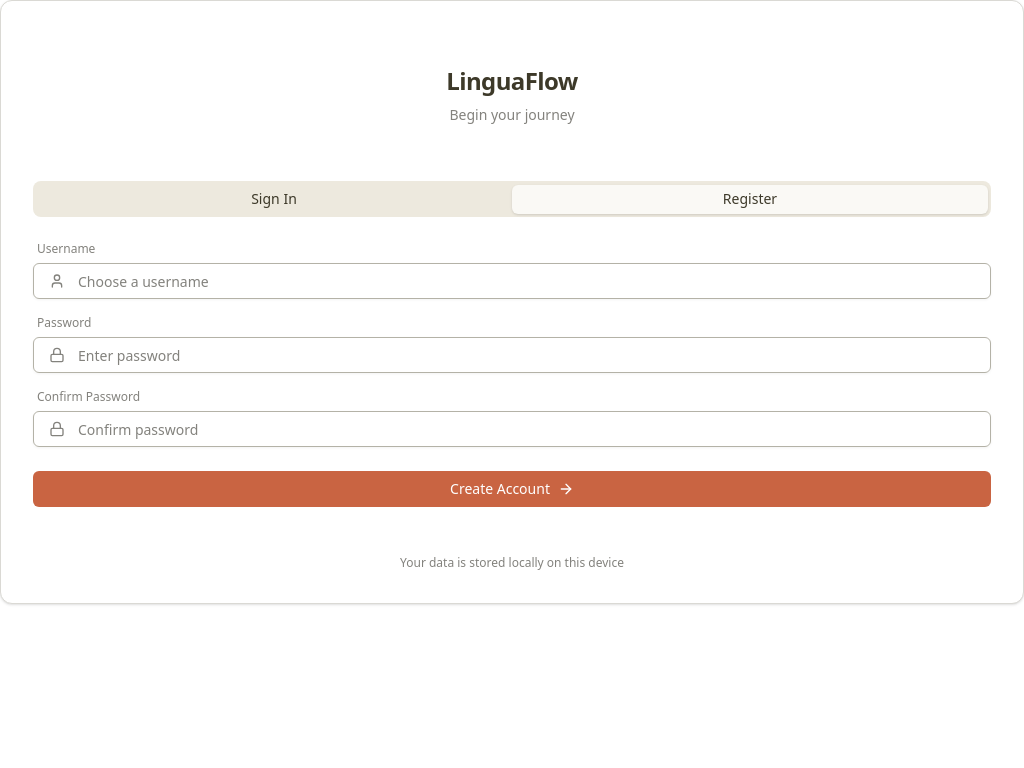
Scenario: AuthPage › switches between login and register tabs
Expected: the button "Create Account" is shown, x1=33 y1=471 x2=991 y2=507
Click the tab "Sign In". click: (274,199)
box: x1=36 y1=184 x2=512 y2=214
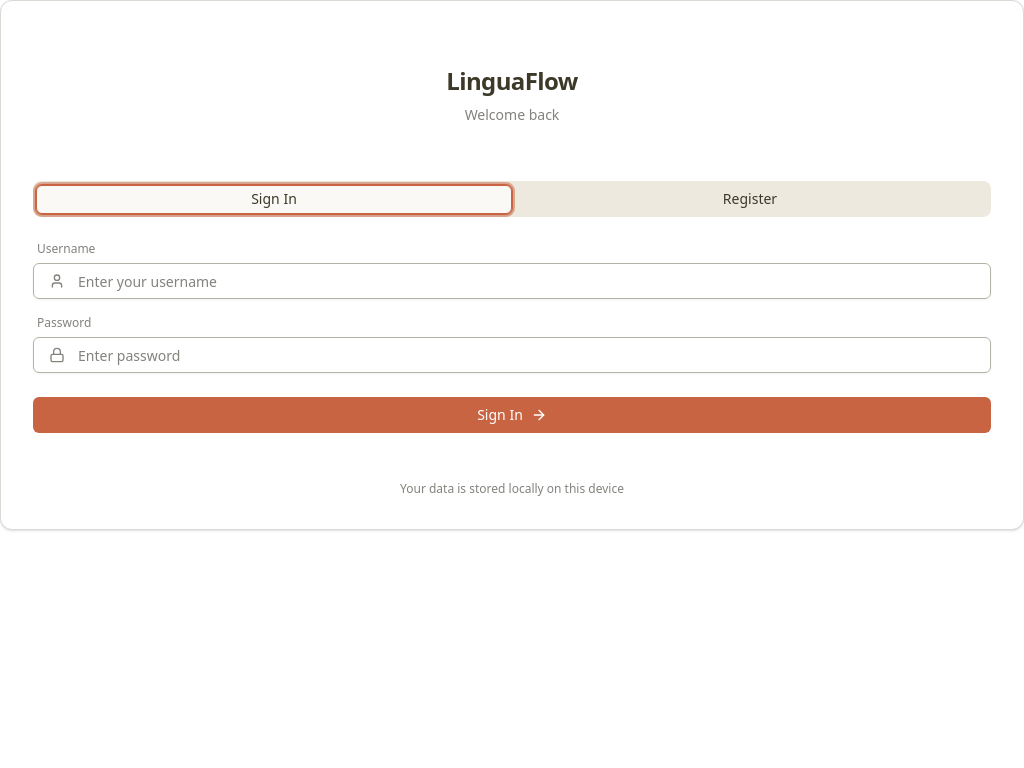
Now the button "Sign In" is shown, box x1=33 y1=397 x2=991 y2=433
Click the tab "Register". click: (750,199)
box: x1=512 y1=184 x2=988 y2=214
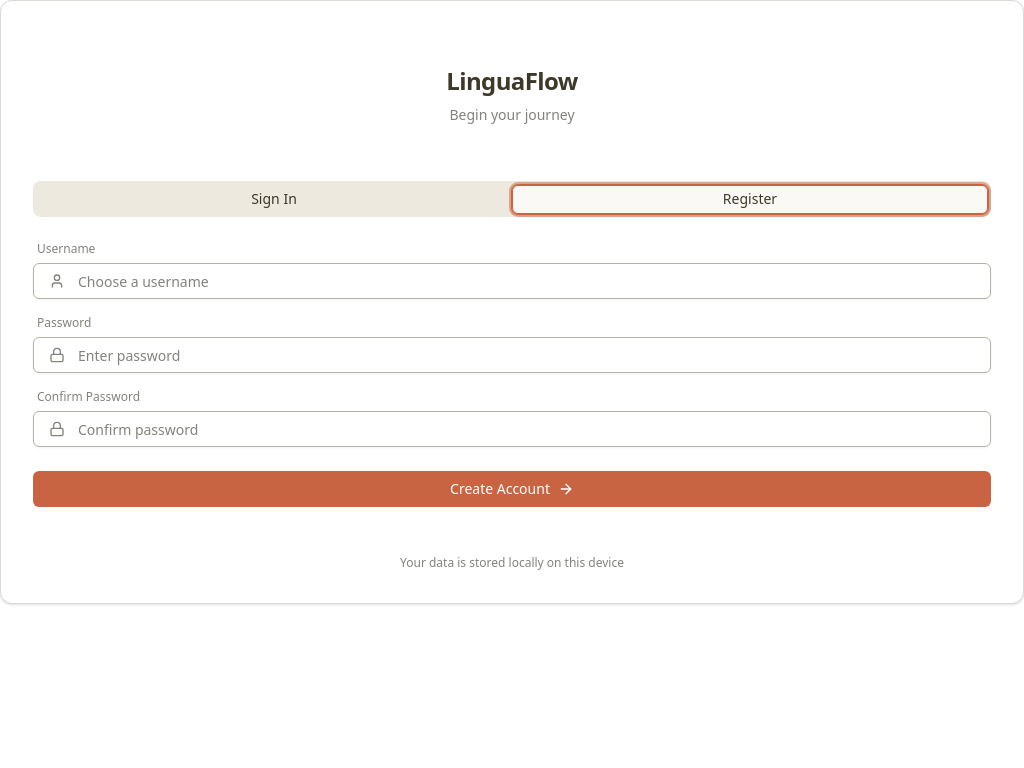
Now the button "Create Account" is shown, box x1=33 y1=471 x2=991 y2=507
